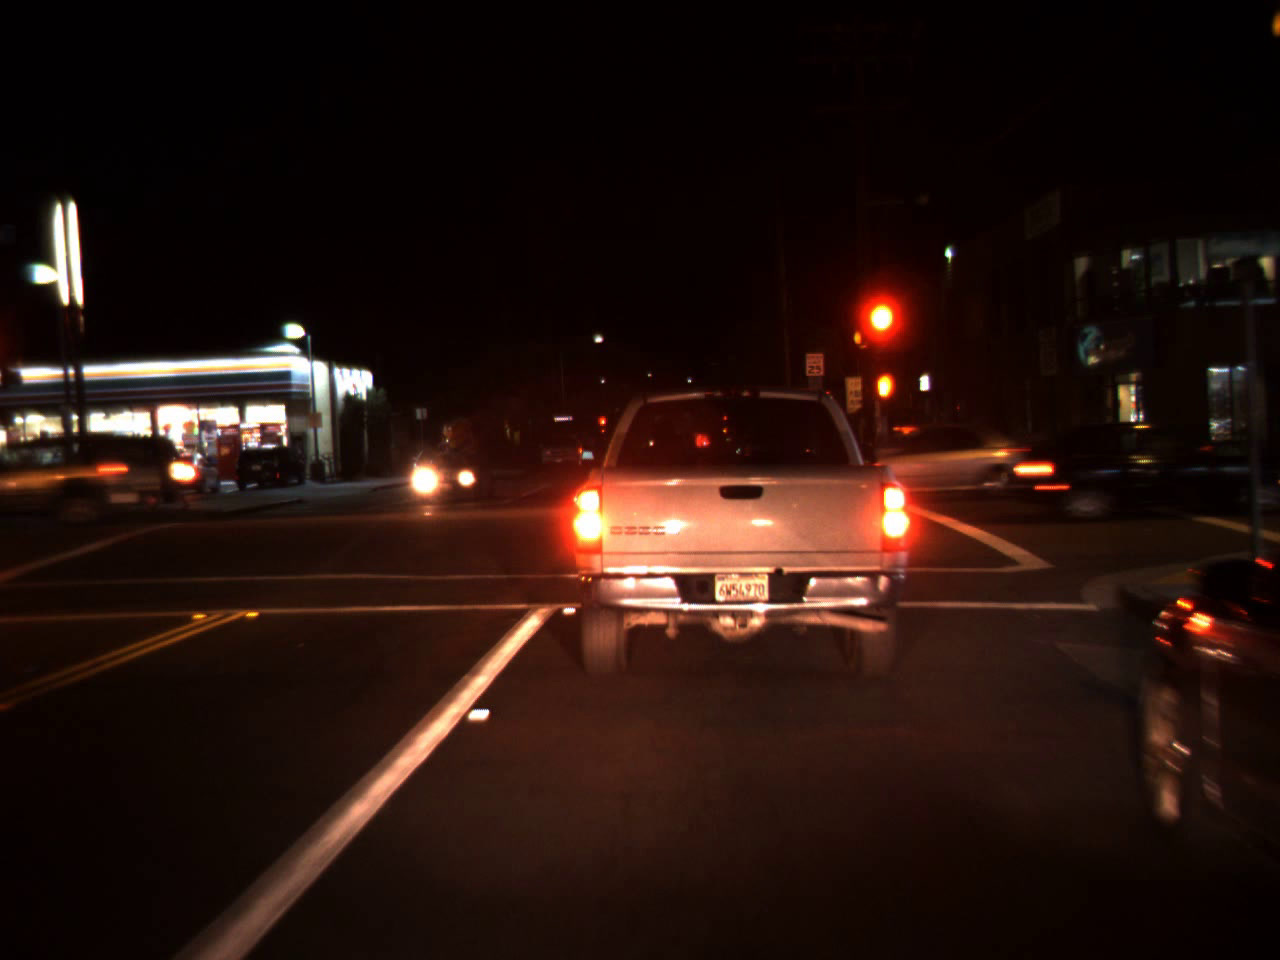stop: (862, 301, 898, 364), (598, 415, 607, 433)
